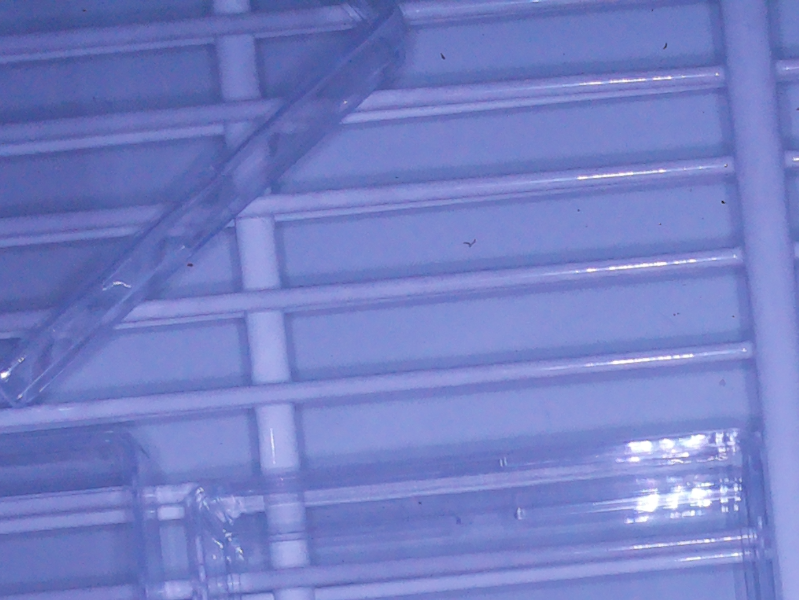plate: (1, 1, 407, 414), (185, 425, 778, 600), (1, 424, 159, 600)
